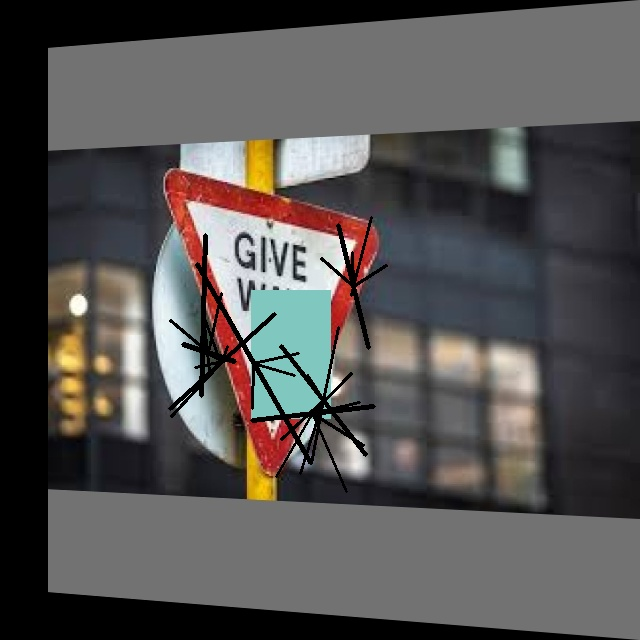Give_Way: (170, 163, 377, 481)
